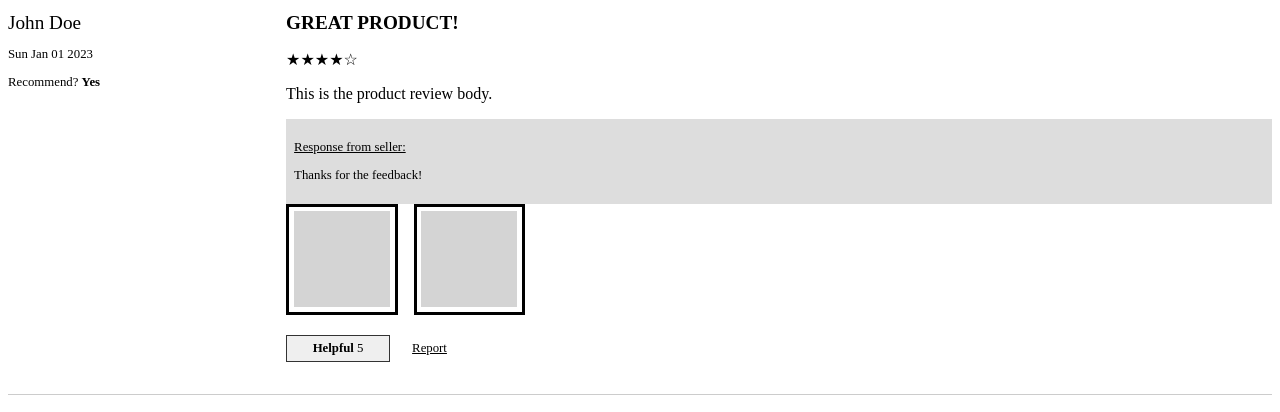
Test: ReviewCard › should increase helpful count on "Helpful" button click
What coordinates should you click on to do the following:
click the text "Helpful"
I would click on:
 (333, 348)
Its box is [313,341,354,355].
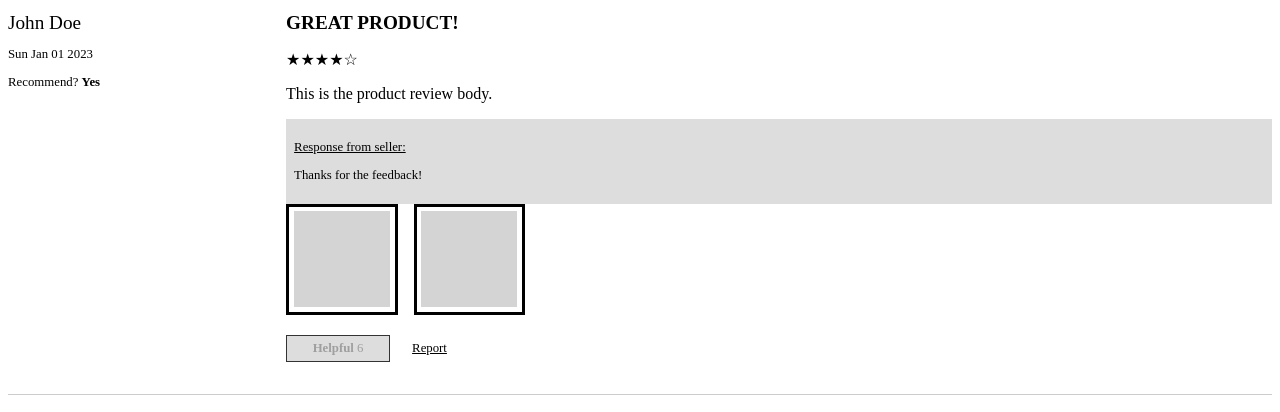
Check: the text "6" is shown, box [357,341,364,355]
